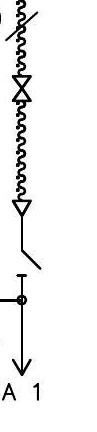terminator_single: (11, 198, 34, 217)
terminator_splicing_kits: (11, 74, 32, 102)
